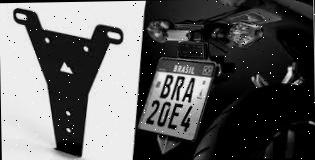placa_mercosul: (136, 57, 216, 141)
